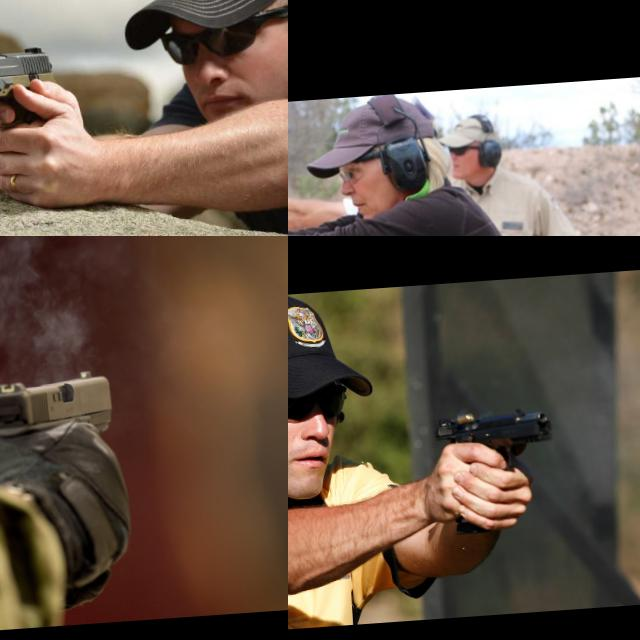handgun: (0, 364, 119, 445), (433, 404, 558, 476), (0, 41, 76, 137), (288, 205, 342, 236)
